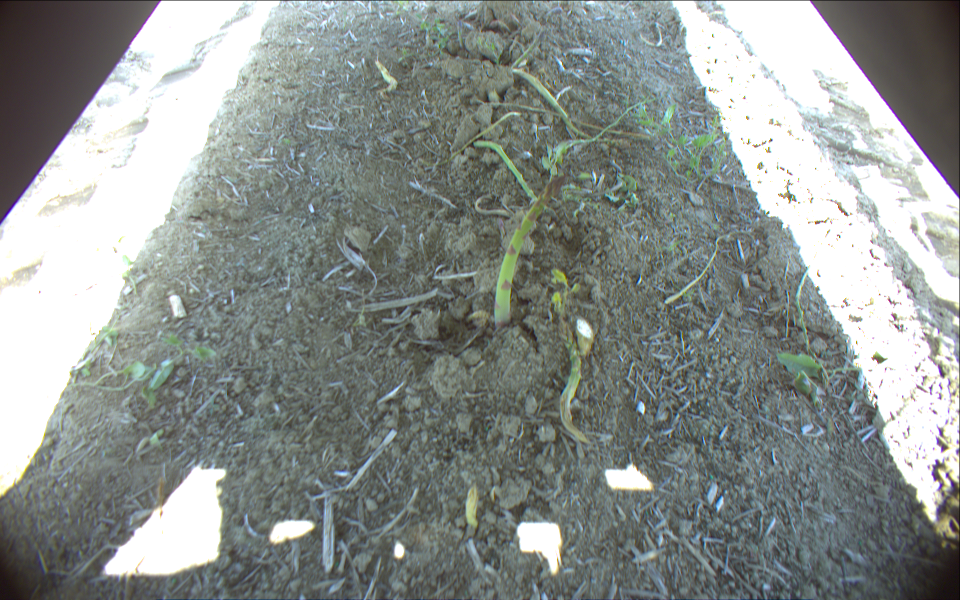aspa: (513, 70, 628, 147), (494, 179, 553, 326), (472, 140, 550, 219), (553, 315, 591, 446), (794, 264, 816, 350), (513, 30, 547, 69), (373, 60, 397, 95), (465, 484, 480, 533)
